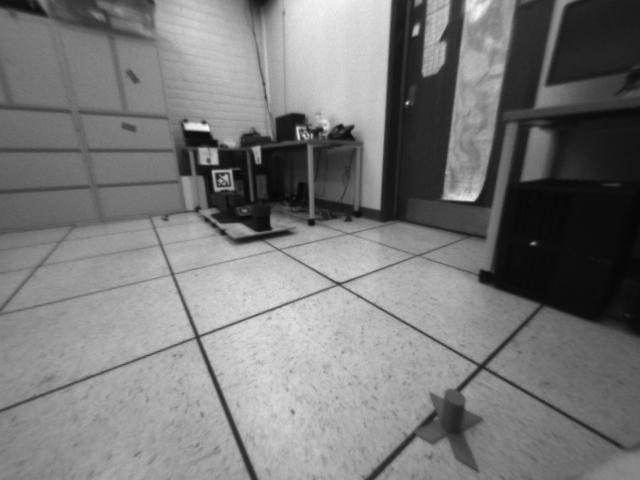X: (412, 387, 486, 474)
